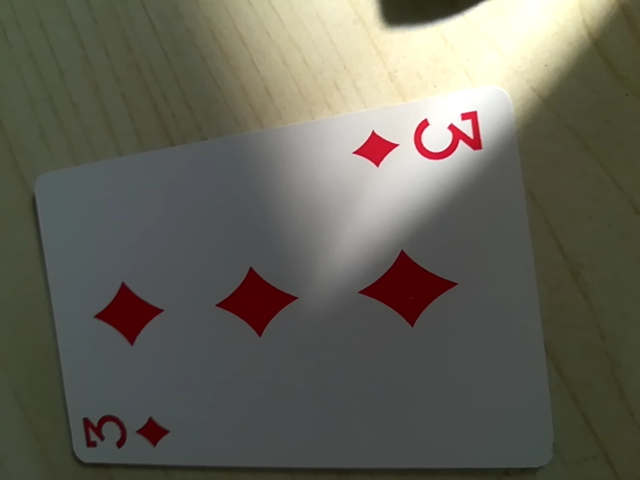fk 3: (352, 105, 489, 174), (77, 400, 170, 465)
